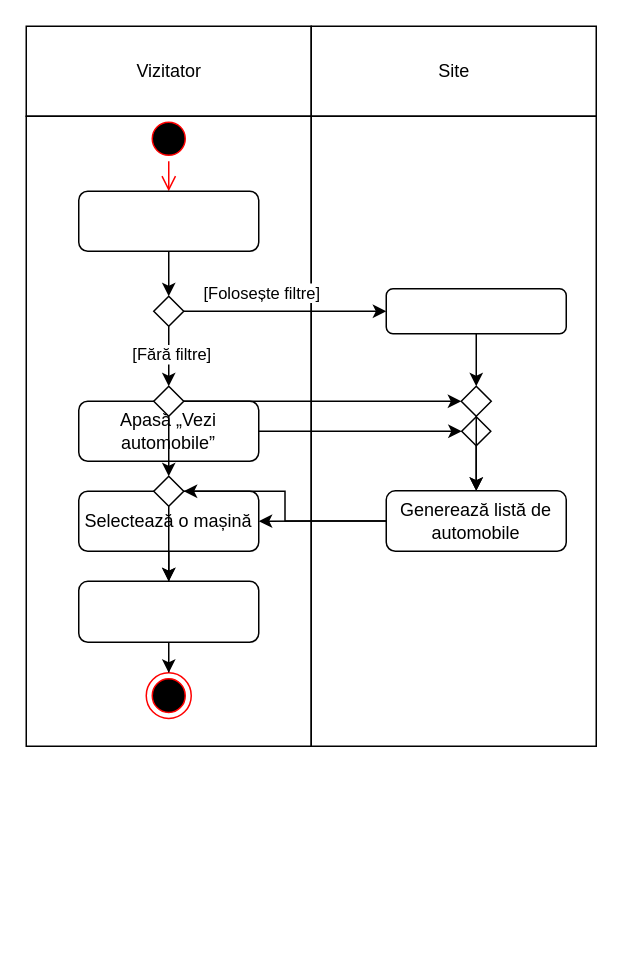
This 623x953 diagram has some shape labels left out. Each missing label, with the centre of its shape:
"Accesează pagina web" goes at pixel 168 220.
"Extrage filtre" goes at pixel 475 310.
"Vizualizeaza detalii mașină" goes at pixel 168 611.
